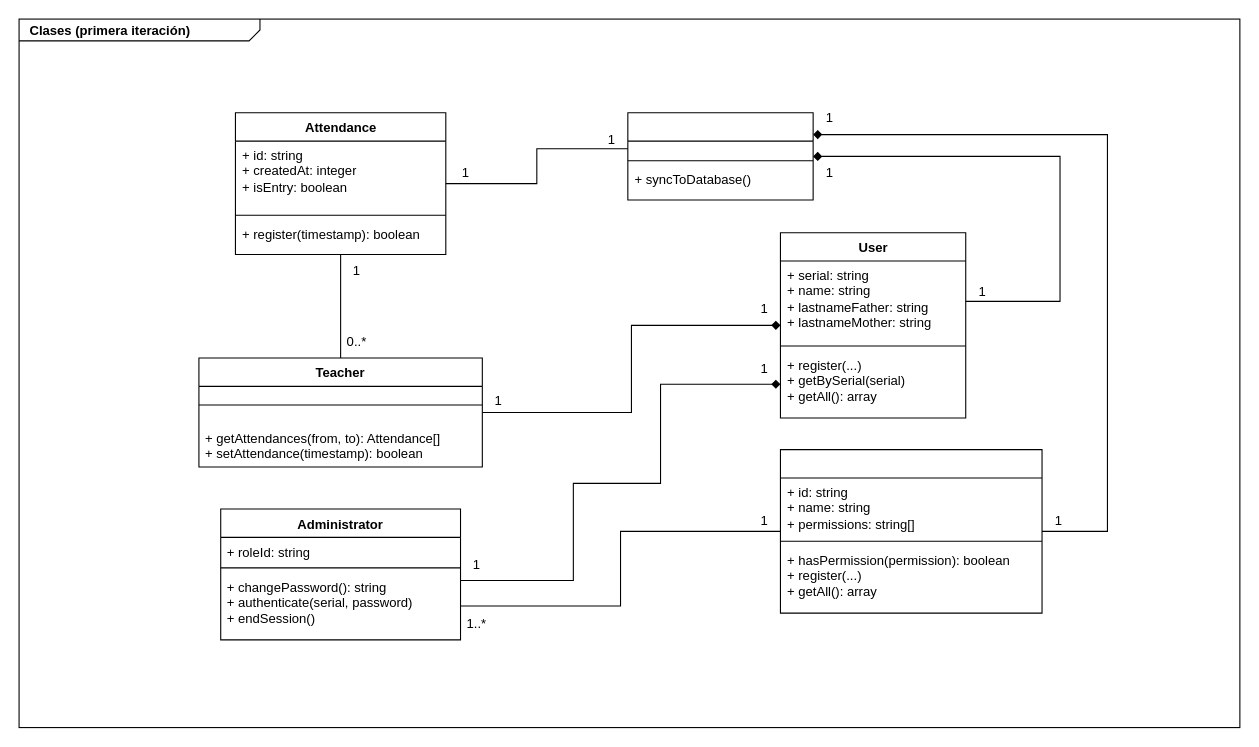
The diagram is 1259 pixels wide and 747 high, and some of its shapes have lost their labels. The box of each missing label's shape, as (x1, y1, x2, y2) in pixels:
Entity: (627, 112, 813, 200)
Role: (779, 449, 1042, 613)
